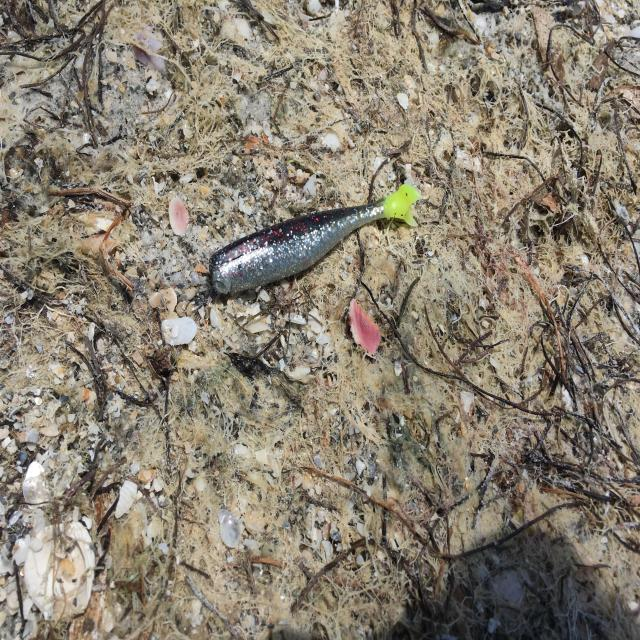litter: (193, 179, 415, 303)
